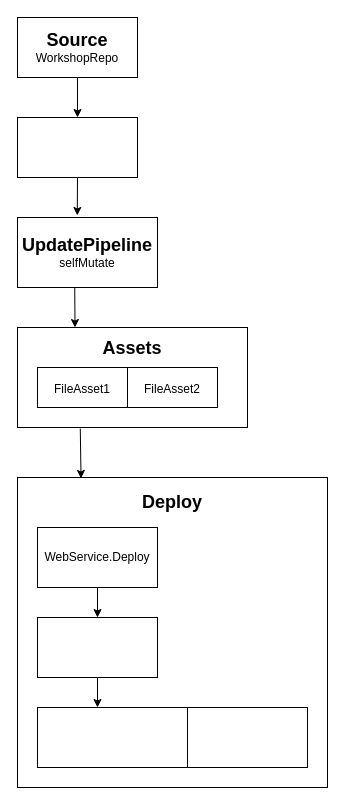
Image size: 345x805. Some labels were removed from this diagram. Here are the shapes that lost their labels. From the top down, the centre of each, then its label:
At point (77, 147): "Build SynthStep".
At point (97, 647): "WebService.PrePare".
At point (112, 737): "TestAPIGatewayEndpoint".
At point (247, 737): "TestViewerEndpoint".
